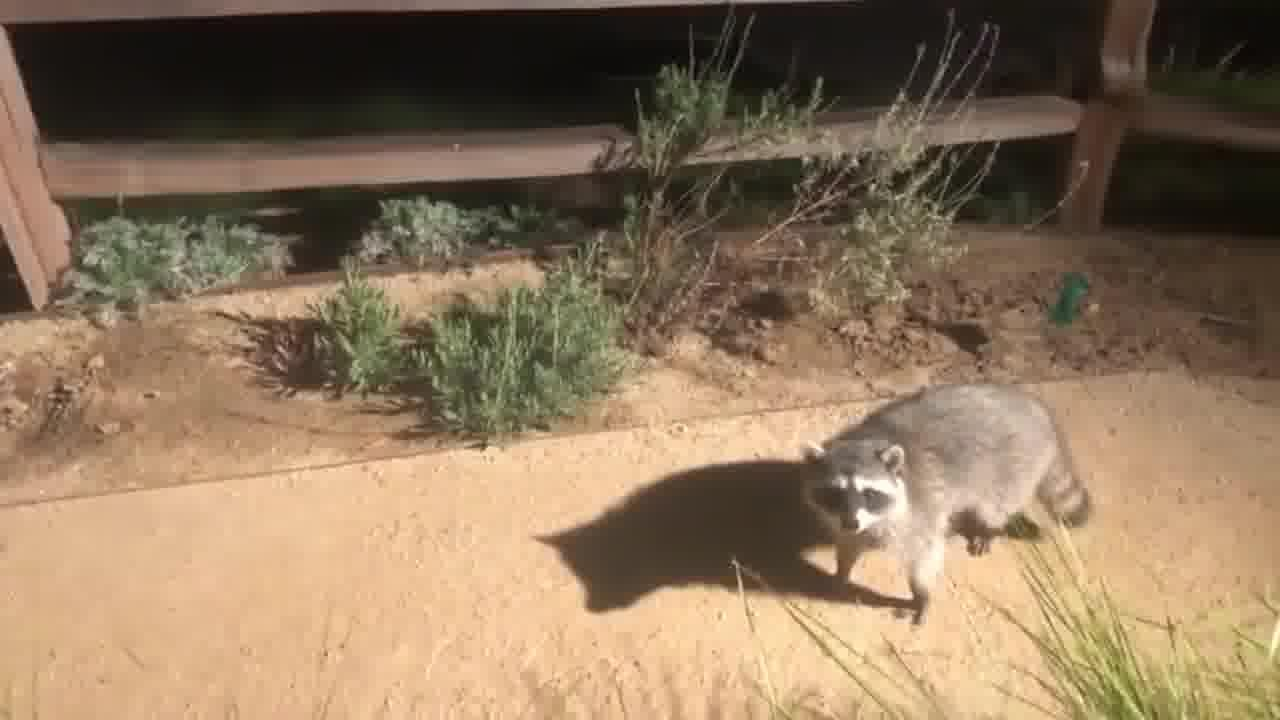raccoon: (798, 381, 1104, 634)
